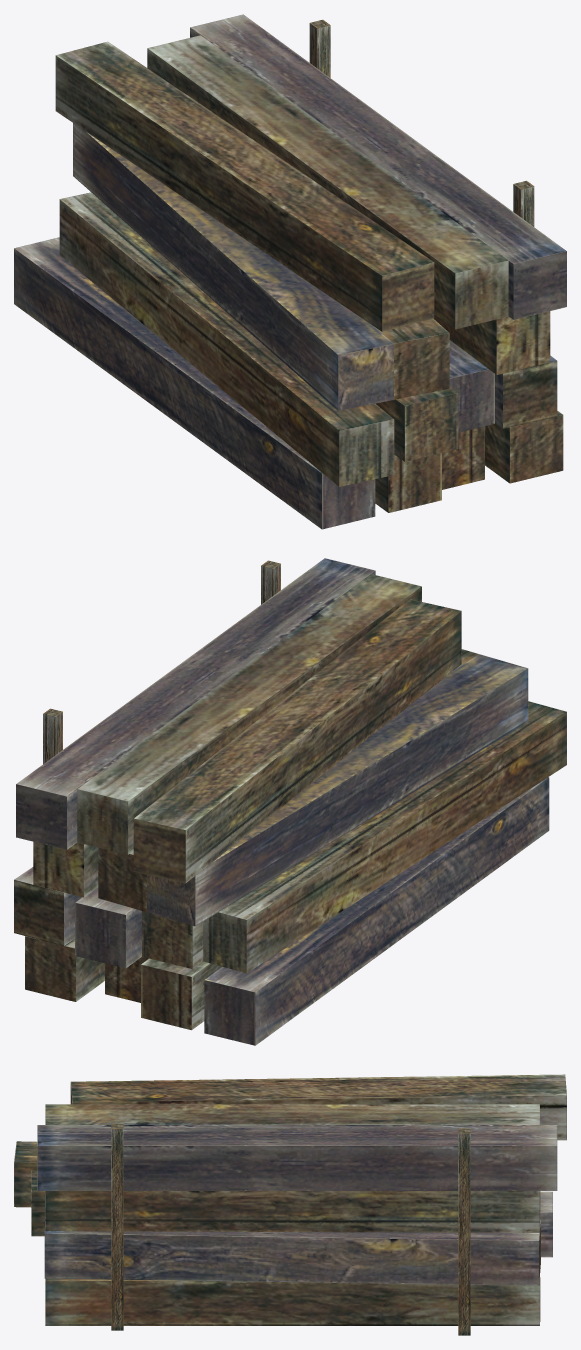
Rendered from m_wood1.glb.
3 views of the same model, one above another, from view 1: azimuth 30°, elevation 25°; view 2: azimuth 150°, elevation 25°; view 3: azimuth 270°, elevation 25° (orthographic). The views are drawn at different scales.
Visible parts, largest first — view 1: m_wood1; view 2: m_wood1; view 3: m_wood1.
Boxes of the visible parts, bbox=[...] form: m_wood1: bbox=[14, 14, 566, 529]; m_wood1: bbox=[14, 558, 566, 1045]; m_wood1: bbox=[14, 1074, 566, 1335].
Size of the model in its own units: 2 by 1.8 by 4.47.
2 materials, 2 textured.
